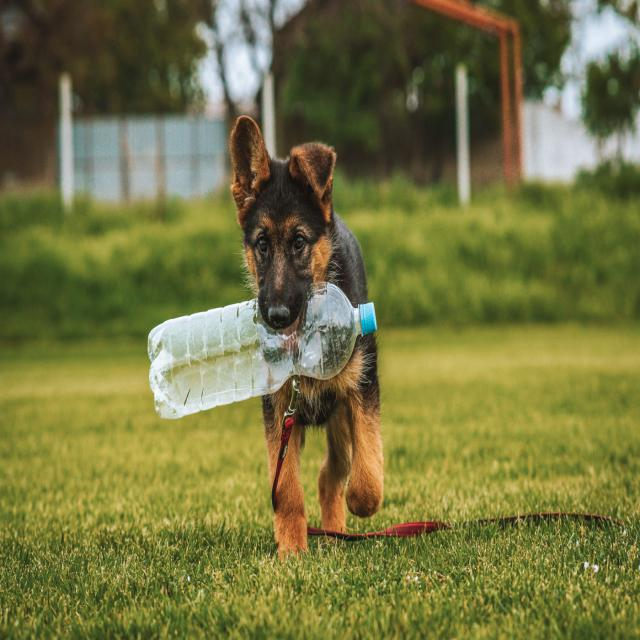bottom: (144, 304, 188, 422)
cap: (345, 297, 384, 340)
